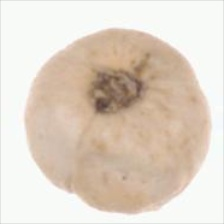L4: (23, 26, 211, 214)
